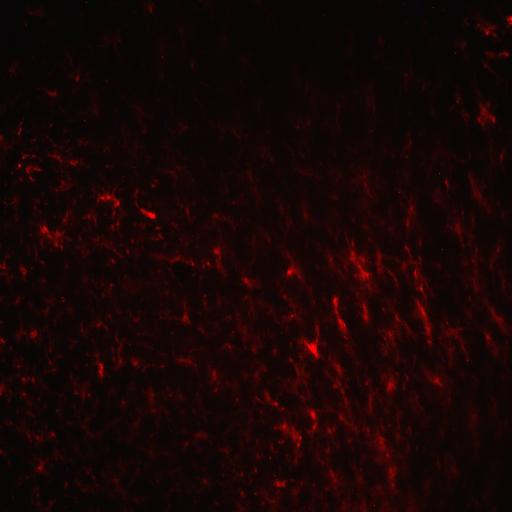microglia: (78, 183, 130, 245), (340, 230, 382, 296), (371, 426, 404, 496), (401, 244, 434, 300), (380, 298, 410, 359), (439, 318, 471, 367), (273, 415, 303, 465), (296, 317, 327, 363), (373, 247, 403, 293), (284, 251, 313, 297), (410, 297, 436, 348), (234, 312, 263, 353), (329, 295, 356, 339), (286, 356, 309, 406), (423, 366, 454, 402), (45, 146, 83, 175), (446, 210, 476, 246), (468, 174, 494, 214), (351, 166, 379, 203), (486, 301, 512, 340), (201, 242, 229, 278), (38, 221, 70, 252), (240, 270, 271, 300), (325, 354, 347, 396), (94, 24, 124, 54), (398, 195, 420, 234), (150, 250, 196, 268), (381, 366, 399, 410), (134, 188, 158, 221), (262, 388, 288, 417), (164, 299, 191, 326), (302, 404, 320, 439), (87, 345, 106, 378), (258, 487, 283, 512), (70, 375, 94, 401), (112, 334, 128, 372), (173, 351, 201, 372), (324, 466, 342, 498), (249, 224, 271, 250), (176, 196, 196, 222), (206, 362, 222, 394), (209, 211, 236, 229), (466, 408, 480, 442), (477, 102, 496, 127), (339, 498, 369, 512), (487, 51, 510, 69), (472, 252, 481, 296), (358, 296, 372, 324), (484, 331, 499, 355), (475, 22, 497, 38), (146, 385, 158, 414), (298, 200, 312, 223), (0, 255, 10, 284), (24, 163, 42, 179), (131, 356, 147, 371), (16, 116, 27, 136), (94, 317, 108, 332), (272, 478, 289, 490), (112, 475, 122, 492), (0, 132, 9, 149), (195, 430, 209, 440), (150, 232, 164, 241), (16, 328, 27, 339), (34, 433, 44, 444), (36, 460, 45, 472), (22, 378, 35, 386), (9, 196, 19, 206), (130, 314, 140, 324), (46, 89, 58, 97), (20, 266, 28, 278), (242, 276, 250, 286), (44, 296, 54, 304), (0, 383, 6, 396), (43, 306, 50, 316), (30, 330, 38, 338), (42, 225, 48, 234), (214, 248, 219, 255), (75, 76, 80, 82), (64, 482, 68, 488), (51, 432, 55, 436), (203, 294, 207, 298)
